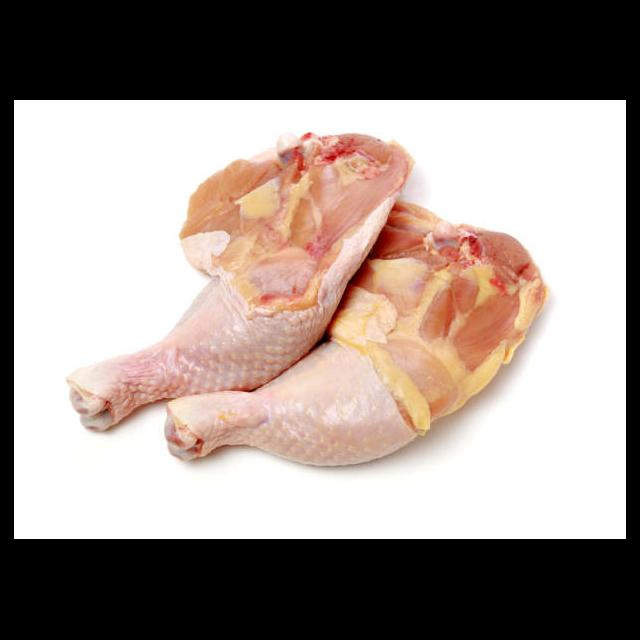chicken: (65, 130, 551, 470)
